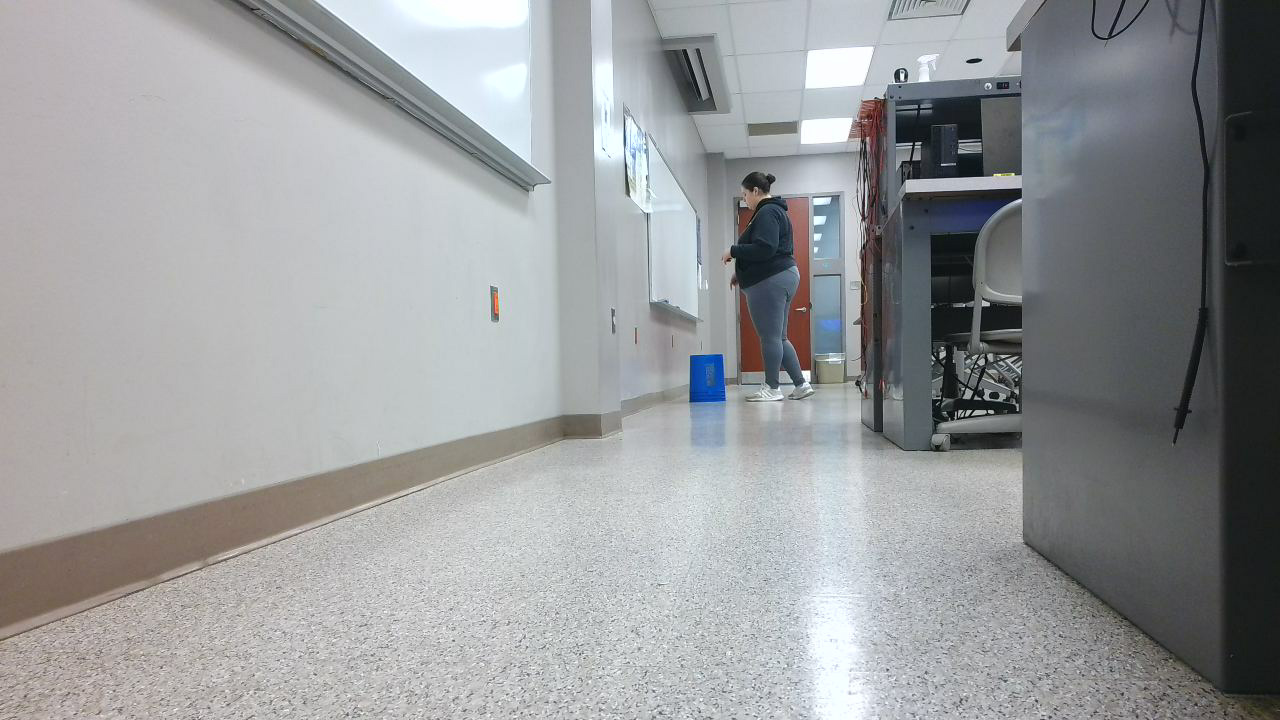blue_bucket: (689, 356, 734, 412)
